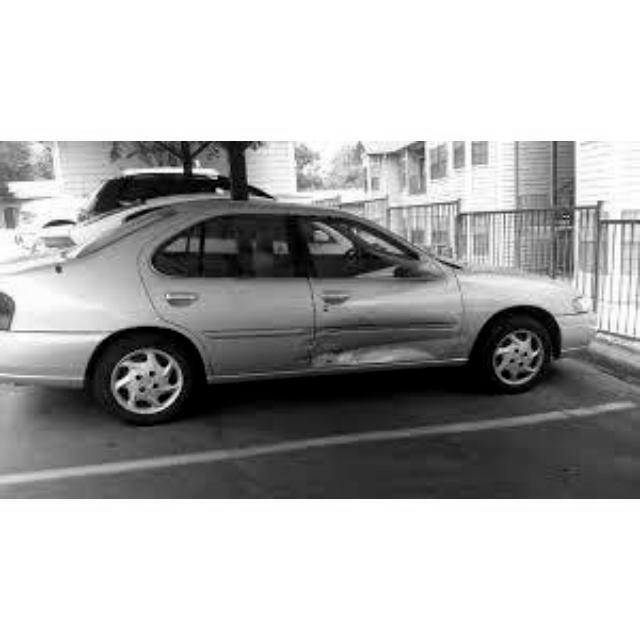doorouter-dent: (316, 285, 458, 370)
